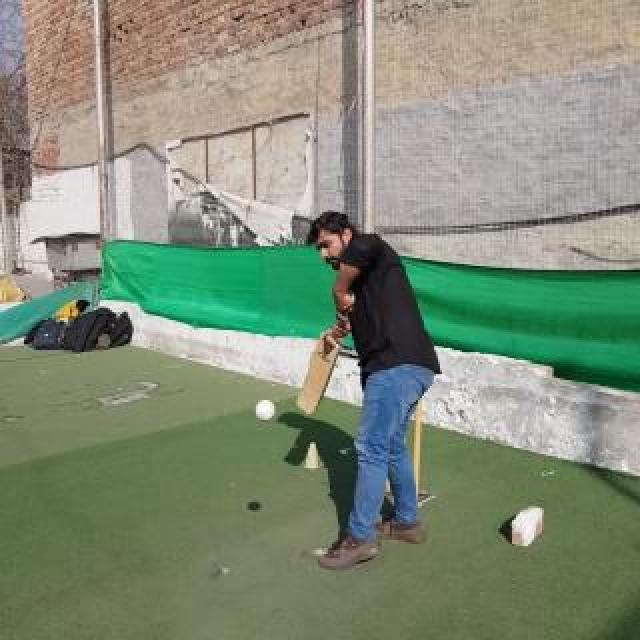ball: (256, 399, 276, 421)
bat: (296, 330, 340, 414)
